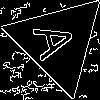A: (32, 17, 86, 63)
